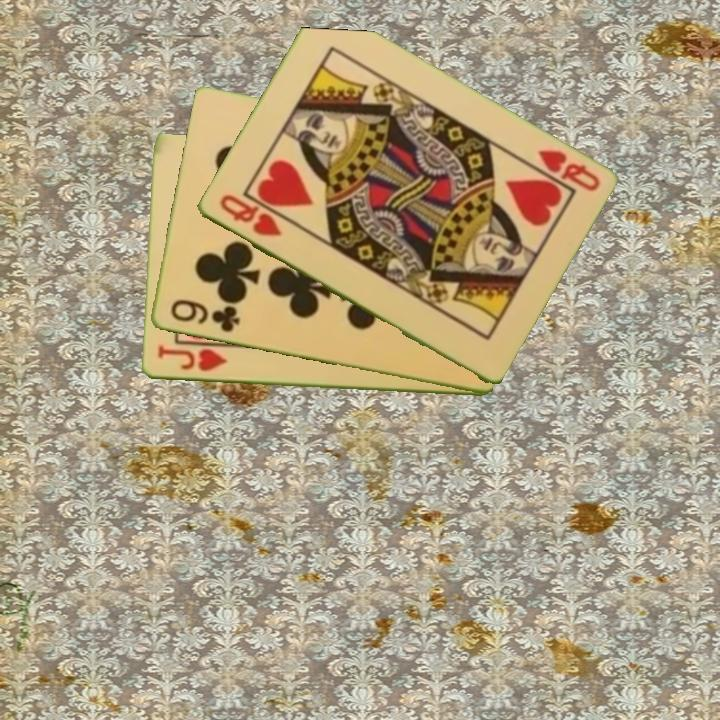9c: (166, 296, 242, 336)
Jh: (153, 342, 229, 375)
Qh: (533, 146, 603, 195), (215, 191, 284, 240)
